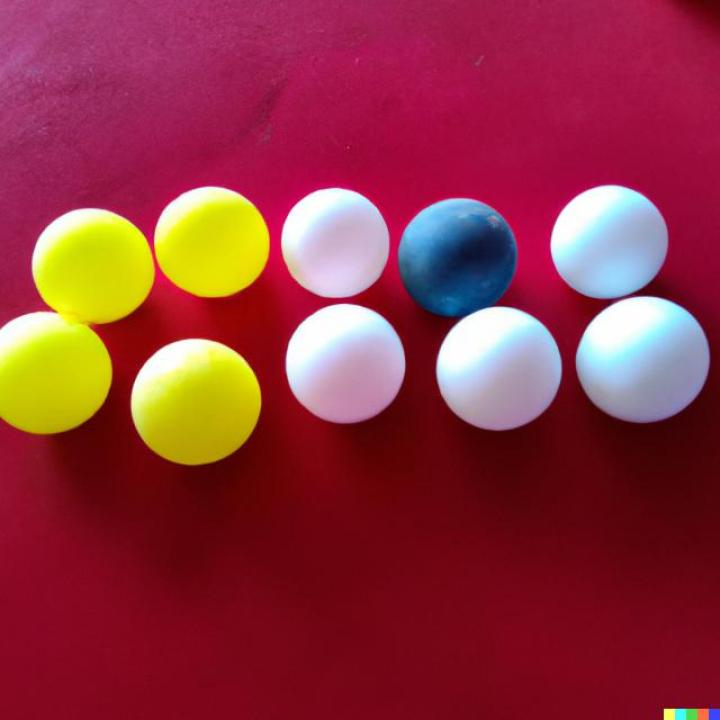white: (574, 294, 710, 424), (436, 306, 563, 432), (286, 303, 407, 424), (551, 183, 669, 301), (280, 186, 390, 299)
